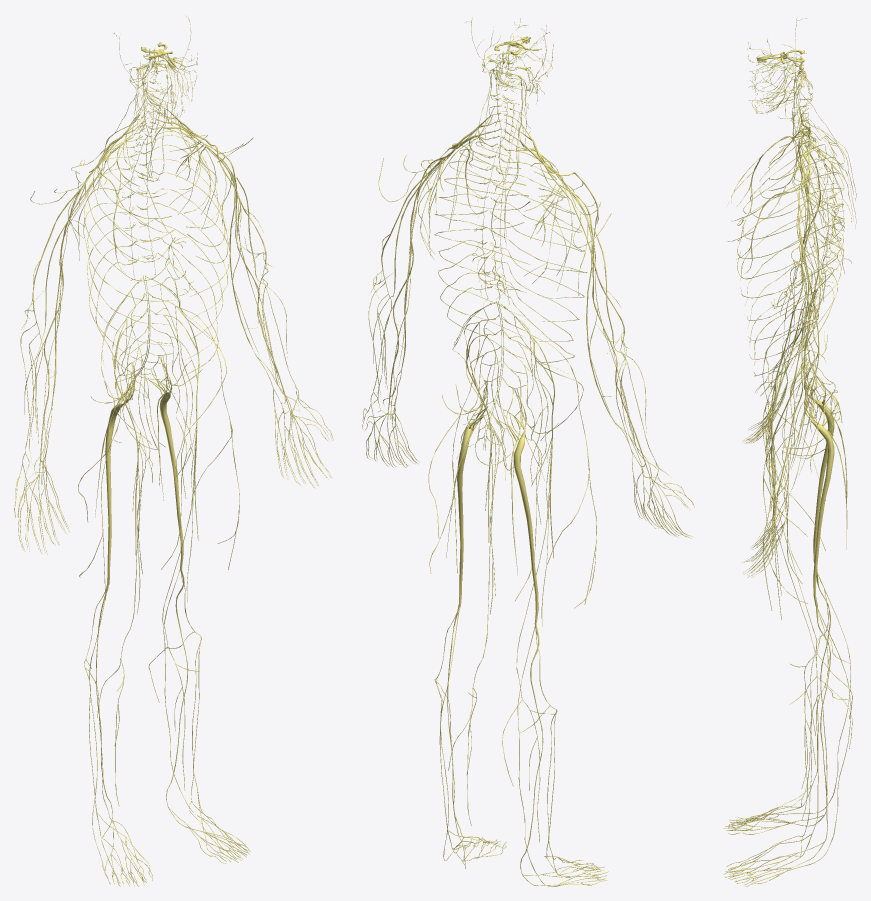
File: nervous_peripheral.glb
3 views of the same model, side by side, from view 1: azimuth 30°, elevation 25°; view 2: azimuth 150°, elevation 25°; view 3: azimuth 270°, elevation 25° (orthographic). The views are drawn at different scales.
Visible parts, largest first — view 1: Nervous_LowerLimb_Nerves, Nervous_UpperLimb_Nerves, Nervous_Trunk_Nerves, Nervous_Lumbosacral_Plexus, Nervous_Cranial_Nerves, Nervous_Brachial_Plexus; view 2: Nervous_LowerLimb_Nerves, Nervous_UpperLimb_Nerves, Nervous_Lumbosacral_Plexus, Nervous_Trunk_Nerves, Nervous_Brachial_Plexus, Nervous_Cranial_Nerves, Nervous_Sympathetic_Trunk; view 3: Nervous_LowerLimb_Nerves, Nervous_UpperLimb_Nerves, Nervous_Lumbosacral_Plexus, Nervous_Trunk_Nerves, Nervous_Cranial_Nerves, Nervous_Brachial_Plexus, Nervous_Sympathetic_Trunk.
Part boxes in pixels (x1,y1,x2,y2): Nervous_LowerLimb_Nerves: (84,297,250,886); Nervous_UpperLimb_Nerves: (14,137,333,554); Nervous_Trunk_Nerves: (83,81,230,399); Nervous_Lumbosacral_Plexus: (78,279,239,599); Nervous_Cranial_Nerves: (97,16,197,302); Nervous_Brachial_Plexus: (68,98,241,273); Nervous_LowerLimb_Nerves: (434,319,608,886); Nervous_UpperLimb_Nerves: (362,148,694,538); Nervous_Lumbosacral_Plexus: (428,304,596,608); Nervous_Trunk_Nerves: (434,93,587,450); Nervous_Brachial_Plexus: (418,106,598,290); Nervous_Cranial_Nerves: (448,17,553,301); Nervous_Sympathetic_Trunk: (474,102,514,309); Nervous_LowerLimb_Nerves: (723,307,852,886); Nervous_UpperLimb_Nerves: (742,126,844,577); Nervous_Lumbosacral_Plexus: (762,291,847,610); Nervous_Trunk_Nerves: (737,92,844,422); Nervous_Cranial_Nerves: (747,17,856,314); Nervous_Brachial_Plexus: (727,106,853,291); Nervous_Sympathetic_Trunk: (792,107,844,299).
Bounding box in the file's own units: 0.6674 × 1.66 × 0.2427.
